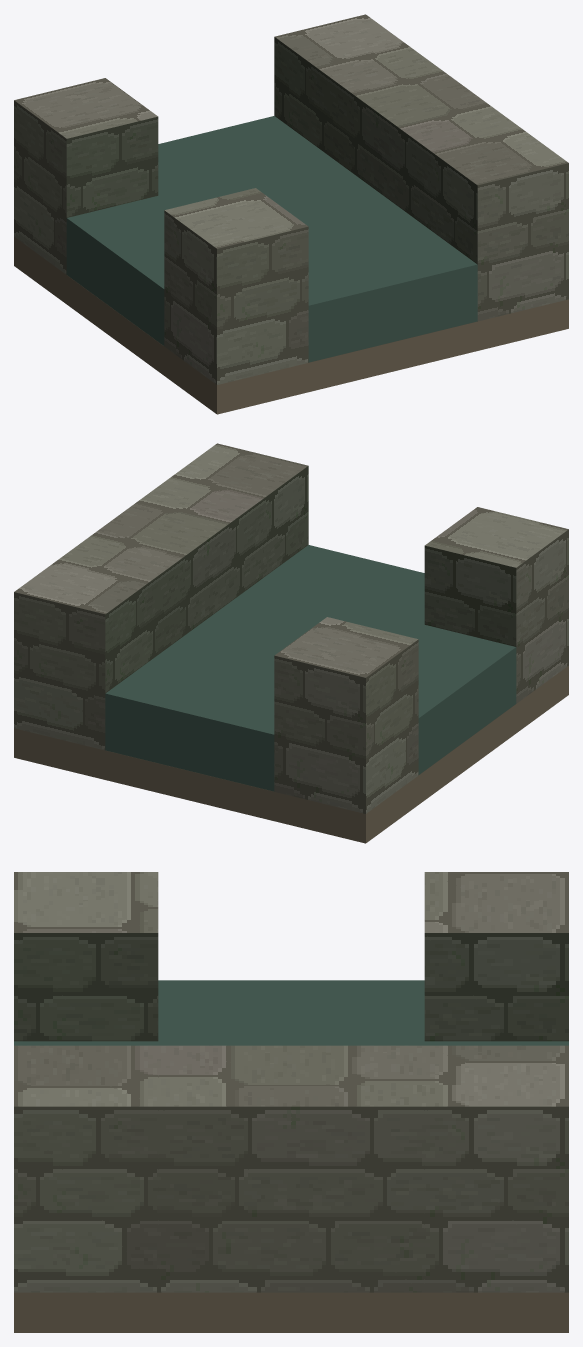
File: branch_race.glb
3 views of the same model, one above another, from view 1: azimuth 30°, elevation 25°; view 2: azimuth 150°, elevation 25°; view 3: azimuth 270°, elevation 25° (orthographic). The views are drawn at different scales.
Visible parts, largest first — view 1: Branch race; view 2: Branch race; view 3: Branch race.
Part boxes in pixels (x1,y1,x2,y2): Branch race: (14,14,568,414); Branch race: (14,443,568,843); Branch race: (14,872,568,1332).
Bounding box in the file's own units: 2 × 0.9 × 2.
Materials: 6 (3 with a texture image).
